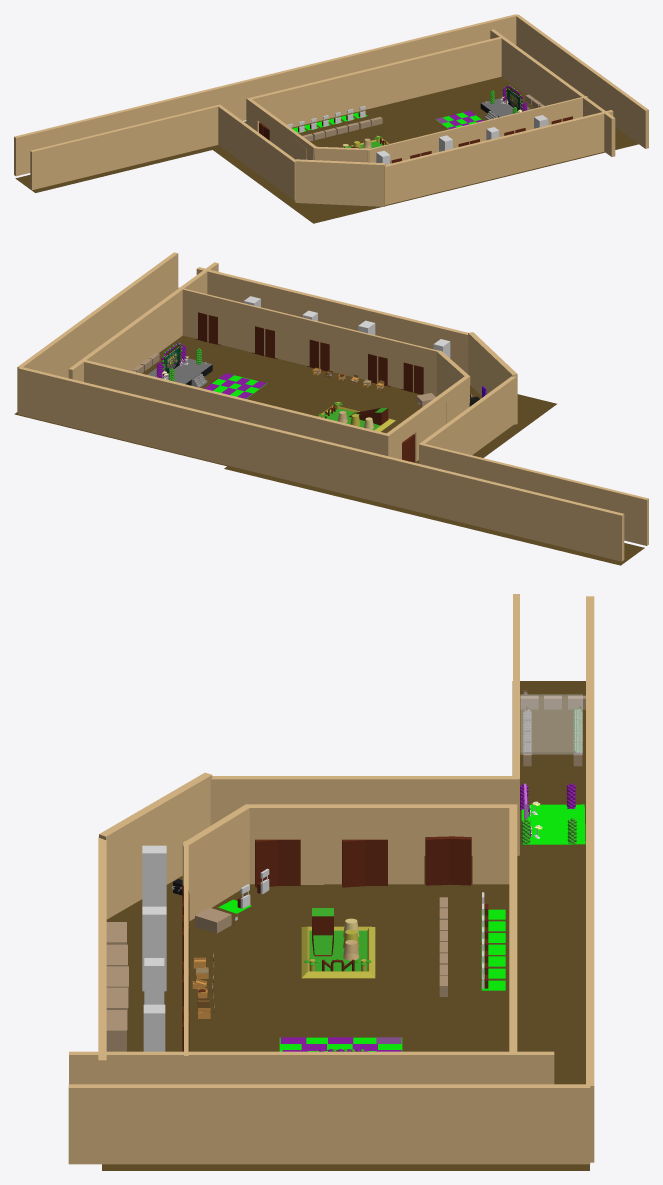
File: tot-manila-floor-plan.glb
3 renders of one model, top to bottom at view 1: azimuth 30°, elevation 25°; view 2: azimuth 150°, elevation 25°; view 3: azimuth 270°, elevation 25°, orthographic. The views are drawn at different scales.
Visible parts, largest first — view 1: Top Wall.001, Top Wall.002, Bottom Wall.001, Floor, Top Wall, Right Wall.001, Left Wall.002, Bottom Wall.003, Left Wall.001, Right Wall, Right Wall.002, Left Wall (+3 smaller); view 2: Top Wall.001, Floor, Bottom Wall.003, Top Wall.002, Bottom Wall.001, Right Wall.001, Top Wall, Left Wall.001, Right Wall, Right Wall.002, Left Wall, Floor.002 (+10 smaller); view 3: Floor, Right Wall.001, Right Wall, Left Wall, Left Wall.001, Right Wall.002, Left Wall.002, Floor.002, Bottom Wall.002, Top Wall.001, Ceiling Hallway, Cube.045 (+16 smaller).
Boxes of the visible parts, x1=… form: Top Wall.001: x1=14, y1=14, x2=517, y2=176; Top Wall.002: x1=250, y1=37, x2=501, y2=127; Bottom Wall.001: x1=384, y1=110, x2=613, y2=205; Floor: x1=209, y1=76, x2=638, y2=223; Top Wall: x1=30, y1=104, x2=220, y2=190; Right Wall.001: x1=516, y1=14, x2=648, y2=148; Left Wall.002: x1=295, y1=159, x2=385, y2=206; Bottom Wall.003: x1=367, y1=96, x2=587, y2=163; Left Wall.001: x1=218, y1=104, x2=295, y2=200; Right Wall: x1=500, y1=36, x2=615, y2=156; Right Wall.002: x1=490, y1=29, x2=578, y2=105; Left Wall: x1=246, y1=98, x2=316, y2=159; Top Wall.001: x1=18, y1=367, x2=624, y2=561; Floor: x1=14, y1=335, x2=556, y2=510; Bottom Wall.003: x1=177, y1=287, x2=442, y2=396; Top Wall.002: x1=84, y1=360, x2=386, y2=454; Bottom Wall.001: x1=196, y1=267, x2=468, y2=374; Right Wall.001: x1=17, y1=252, x2=178, y2=412; Top Wall: x1=419, y1=444, x2=648, y2=545; Left Wall.001: x1=419, y1=376, x2=516, y2=463; Right Wall: x1=80, y1=262, x2=218, y2=370; Right Wall.002: x1=68, y1=272, x2=207, y2=381; Left Wall: x1=384, y1=375, x2=468, y2=461; Floor.002: x1=224, y1=466, x2=644, y2=565; Floor: x1=102, y1=848, x2=589, y2=1170; Right Wall.001: x1=68, y1=1084, x2=590, y2=1164; Right Wall: x1=69, y1=1051, x2=516, y2=1084; Left Wall: x1=249, y1=804, x2=517, y2=884; Left Wall.001: x1=210, y1=776, x2=519, y2=855; Right Wall.002: x1=106, y1=1051, x2=554, y2=1084; Left Wall.002: x1=99, y1=772, x2=212, y2=919; Floor.002: x1=512, y1=681, x2=585, y2=848; Bottom Wall.002: x1=182, y1=804, x2=254, y2=921; Top Wall.001: x1=586, y1=596, x2=594, y2=1162; Ceiling Hallway: x1=520, y1=694, x2=582, y2=754; Cube.045: x1=301, y1=926, x2=375, y2=978.
Size of the model in its own units: 97.41 by 7.98 by 43.55.
Materials: 34 (1 with a texture image).
